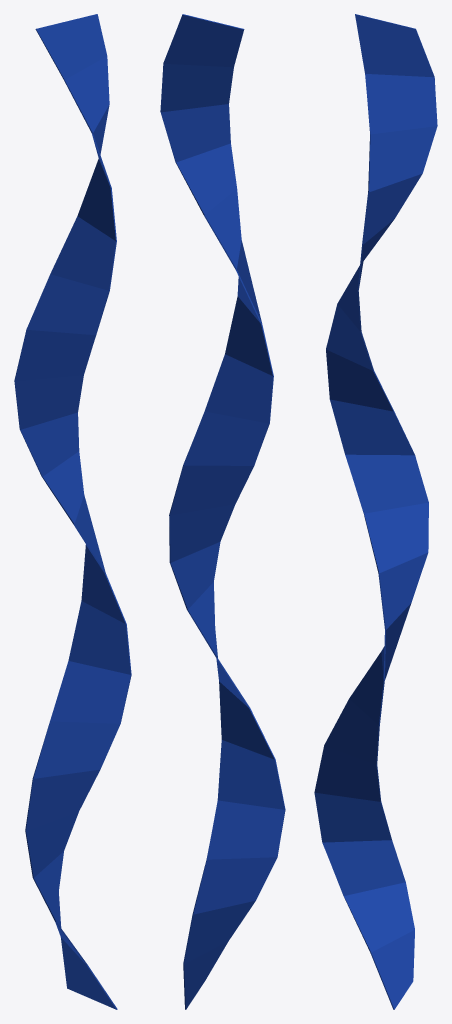
The model's file is party_streamer_blue.glb.
The picture shows the model from 3 angles, left to right: view 1: azimuth 30°, elevation 25°; view 2: azimuth 150°, elevation 25°; view 3: azimuth 330°, elevation 25°; orthographic projection.
Visible parts, largest first — view 1: party_streamer_blue_body; view 2: party_streamer_blue_body; view 3: party_streamer_blue_body.
Part boxes in pixels (x1,y1,x2,y2): party_streamer_blue_body: (14, 14, 131, 1009); party_streamer_blue_body: (160, 14, 285, 1009); party_streamer_blue_body: (314, 14, 437, 1009).
Bounding box in the file's own units: 0.0781 × 0.7001 × 0.07.
1 material, 1 textured.
